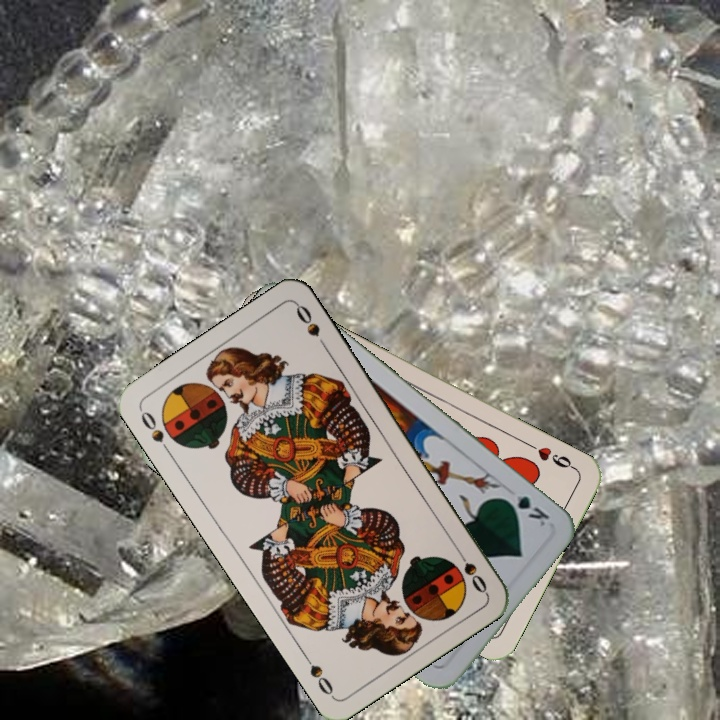GK: (498, 489, 553, 530)
H9: (524, 439, 579, 473)
SO: (451, 543, 490, 596), (135, 405, 174, 458)
